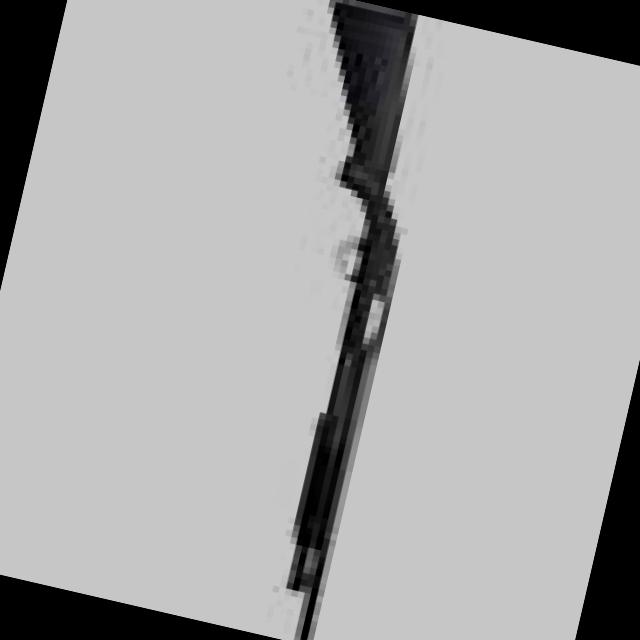long weapon: (254, 0, 450, 640)
